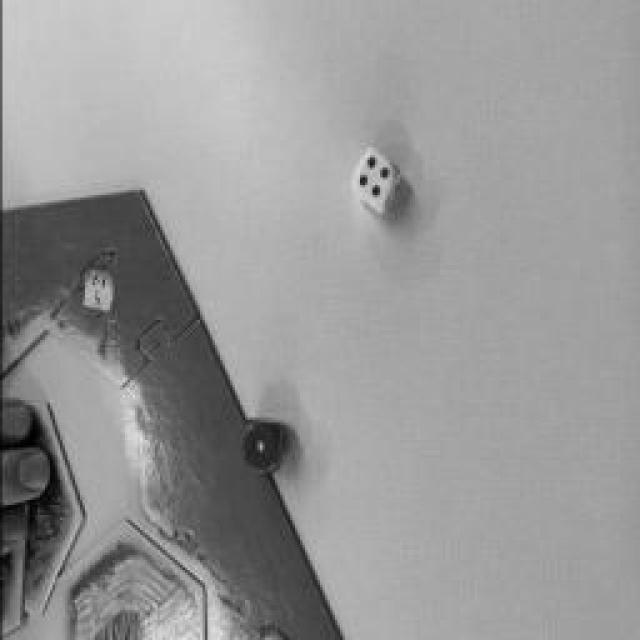dice_1: (241, 420, 279, 470)
dice_4: (355, 150, 395, 205)
